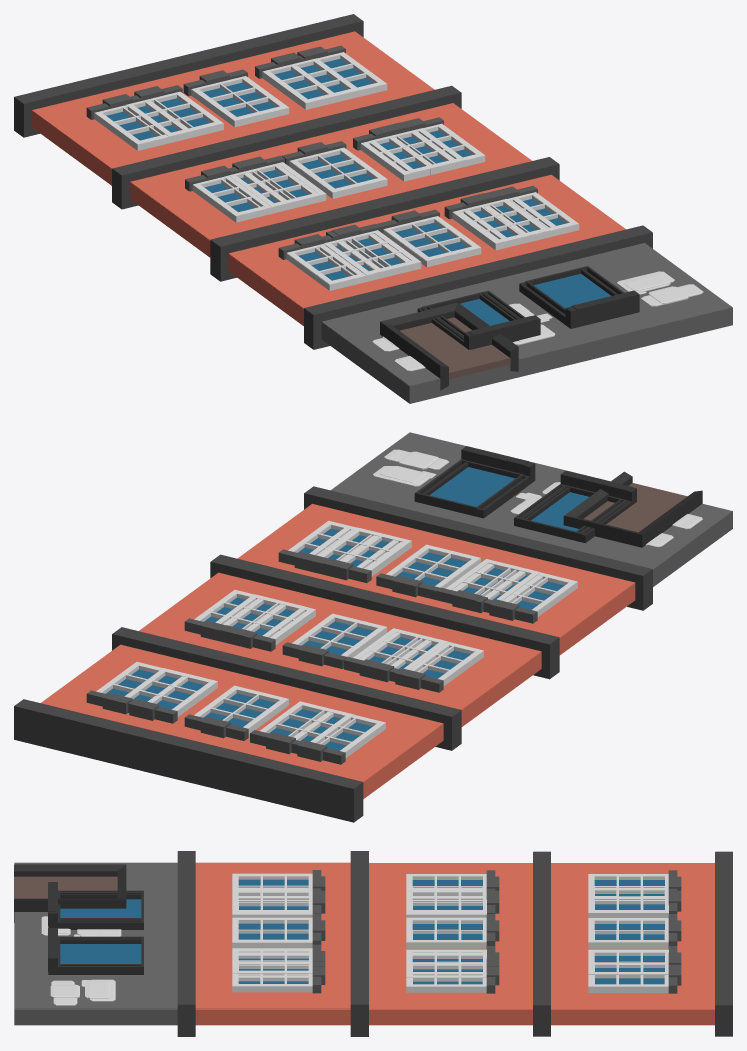
The model's file is Building.fbx.
The picture shows the model from 3 angles, top to bottom: view 1: azimuth 30°, elevation 25°; view 2: azimuth 150°, elevation 25°; view 3: azimuth 270°, elevation 25°; orthographic projection. The views are drawn at different scales.
Parts seen in each view (by area): view 1: Cube.052, Cube.097, Cube.069, Cube.032, Cube.022, Cube.005, Cube, Cube.133, Cube.124, Cube.041, Cube.087; view 2: Cube.022, Cube.052, Cube.069, Cube.032, Cube.124, Cube.005, Cube, Cube.087, Cube.097, Cube.041, Cube.113; view 3: Cube.052, Cube.069, Cube.032, Cube.133, Cube, Cube.041, Cube.005, Cube.022, Cube.097, Cube.113, Cube.124, Cube.087.
Part boxes in pixels (bbox=[...]): Cube.052: bbox=[210, 157, 732, 386]; Cube.097: bbox=[23, 21, 732, 403]; Cube.069: bbox=[14, 14, 670, 403]; Cube.032: bbox=[112, 85, 726, 383]; Cube.022: bbox=[14, 45, 646, 403]; Cube.005: bbox=[220, 164, 732, 389]; Cube: bbox=[185, 117, 665, 389]; Cube.133: bbox=[24, 21, 670, 368]; Cube.124: bbox=[405, 282, 688, 366]; Cube.041: bbox=[374, 294, 515, 351]; Cube.087: bbox=[394, 269, 617, 371]; Cube.022: bbox=[14, 459, 732, 822]; Cube.052: bbox=[211, 432, 732, 644]; Cube.069: bbox=[14, 461, 732, 789]; Cube.032: bbox=[112, 458, 563, 716]; Cube.124: bbox=[210, 450, 690, 678]; Cube.005: bbox=[279, 449, 577, 614]; Cube: bbox=[185, 466, 534, 683]; Cube.087: bbox=[278, 457, 702, 614]; Cube.097: bbox=[86, 463, 662, 755]; Cube.041: bbox=[112, 458, 673, 683]; Cube.113: bbox=[220, 466, 657, 676]; Cube.052: bbox=[14, 851, 368, 1008]; Cube.069: bbox=[79, 851, 732, 1009]; Cube.032: bbox=[14, 851, 550, 1009]; Cube.133: bbox=[14, 890, 732, 1036]; Cube: bbox=[14, 870, 499, 994]; Cube.041: bbox=[48, 876, 499, 1036]; Cube.005: bbox=[41, 870, 325, 1005]; Cube.022: bbox=[74, 870, 681, 1003]; Cube.097: bbox=[48, 852, 715, 1036]; Cube.113: bbox=[48, 892, 550, 1005]; Cube.124: bbox=[48, 883, 325, 1035]; Cube.087: bbox=[14, 876, 350, 1009].
Size of the model in its own units: 1678 by 209 by 3314.
